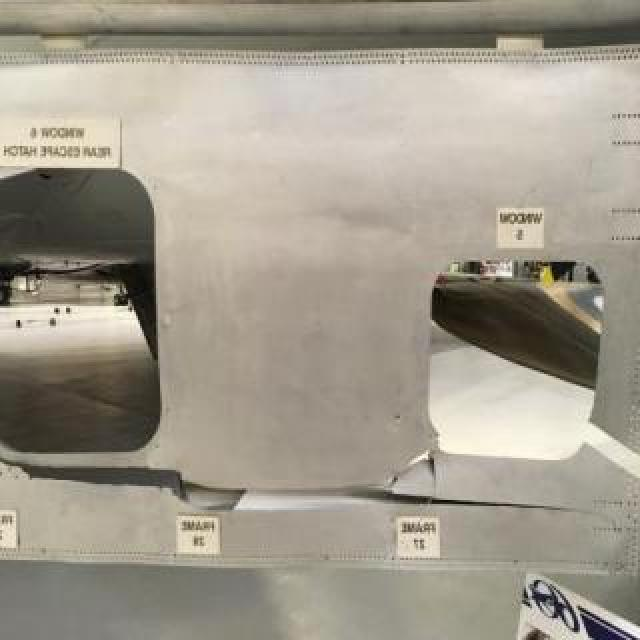crack: (1, 441, 619, 533)
